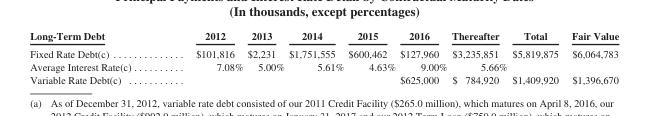table: (29, 29, 618, 85)
table column: (29, 29, 162, 85), (162, 29, 244, 85), (448, 29, 509, 85), (286, 29, 345, 85), (509, 29, 564, 85), (564, 29, 618, 85), (345, 29, 397, 85), (397, 29, 448, 85), (244, 29, 286, 85)
table column header: (29, 29, 618, 44)
table row: (29, 44, 618, 60), (29, 29, 618, 44), (29, 72, 618, 85), (29, 60, 618, 72)
